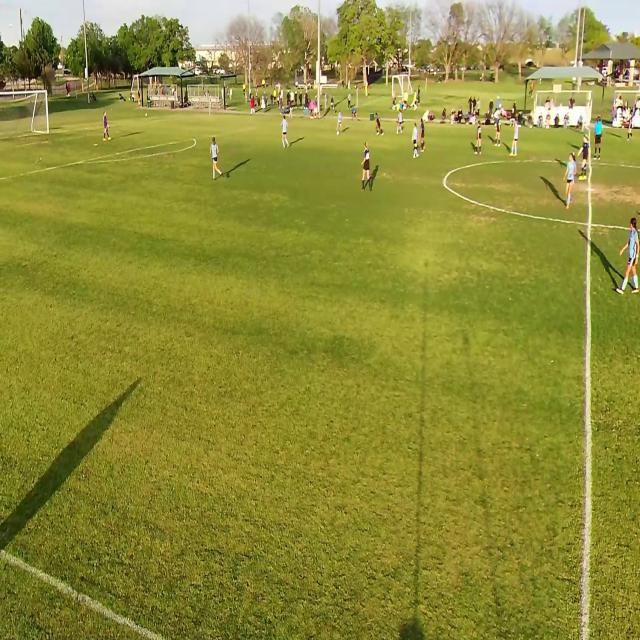ball: (336, 131, 340, 136)
team1: (362, 144, 376, 192), (580, 132, 590, 176), (493, 112, 503, 150), (420, 116, 428, 156), (374, 111, 384, 137), (476, 122, 483, 154)
team2: (620, 218, 640, 298), (566, 149, 581, 211), (210, 137, 223, 181), (510, 118, 520, 160), (280, 116, 291, 150), (412, 122, 420, 160), (397, 106, 405, 137), (336, 109, 342, 140)
